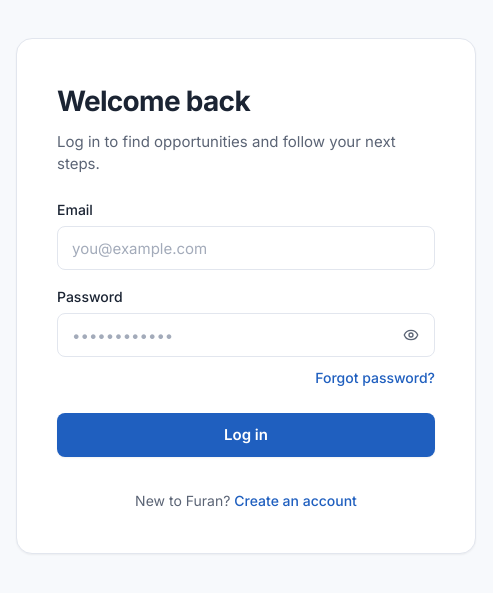
Test: Authentication Screens Suite › Login Page › displays validation errors on empty submission
Click the button "Log in" at point(246, 435), box [57,413,435,457]
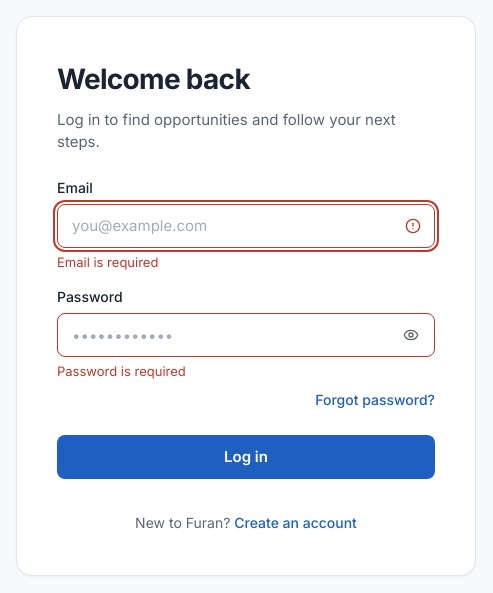
expect the text "Email is required" is shown: met, box [57,254,158,270]
expect the text "Password is required" is shown: met, box [57,363,186,379]
